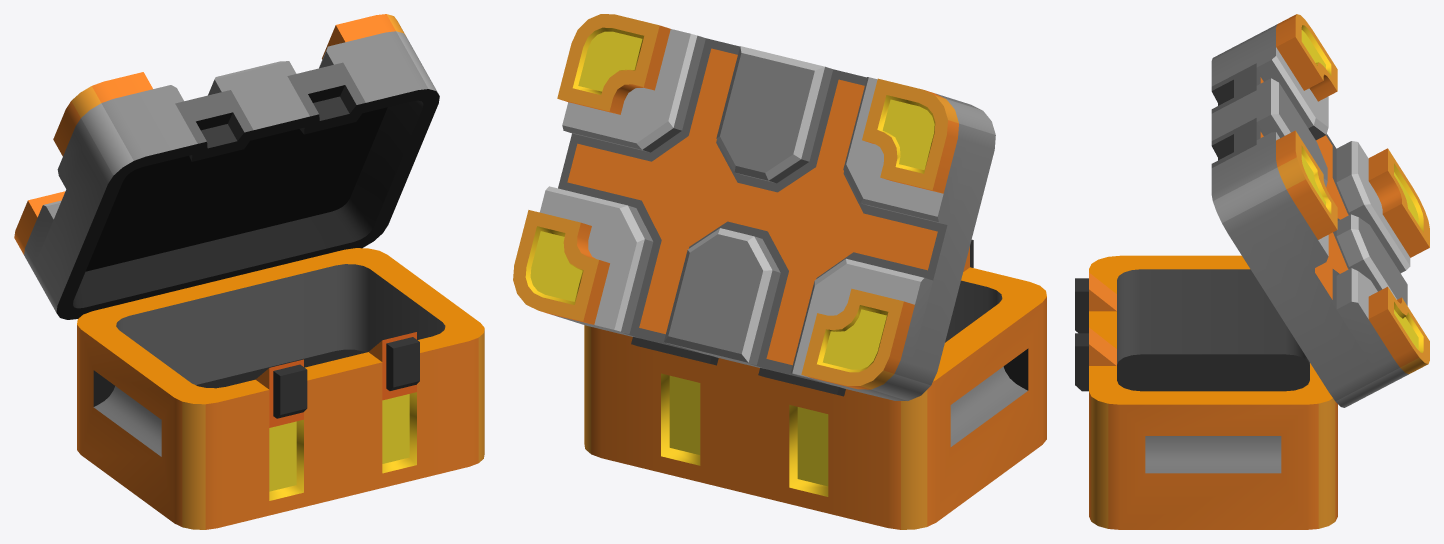
The model's file is Chest_01.fbx.
3 views of the same model, side by side, from view 1: azimuth 30°, elevation 25°; view 2: azimuth 150°, elevation 25°; view 3: azimuth 270°, elevation 25° (orthographic). The views are drawn at different scales.
Visible parts, largest first — view 1: Chest_01; view 2: Chest_01; view 3: Chest_01.
Boxes of the visible parts, x1,y1,x2,y2 form: Chest_01: (14, 14, 484, 529); Chest_01: (513, 14, 1046, 529); Chest_01: (1075, 14, 1429, 529).
Bounding box in the file's own units: 101 × 108 × 93.71.
